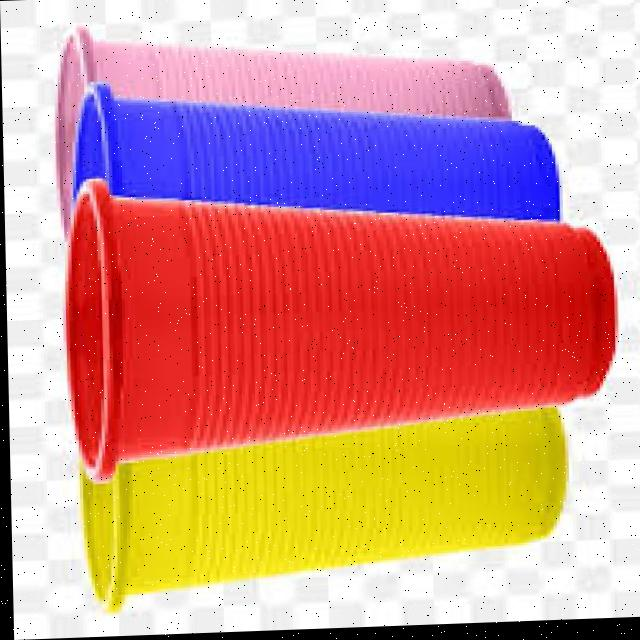cup: (46, 158, 635, 492)
